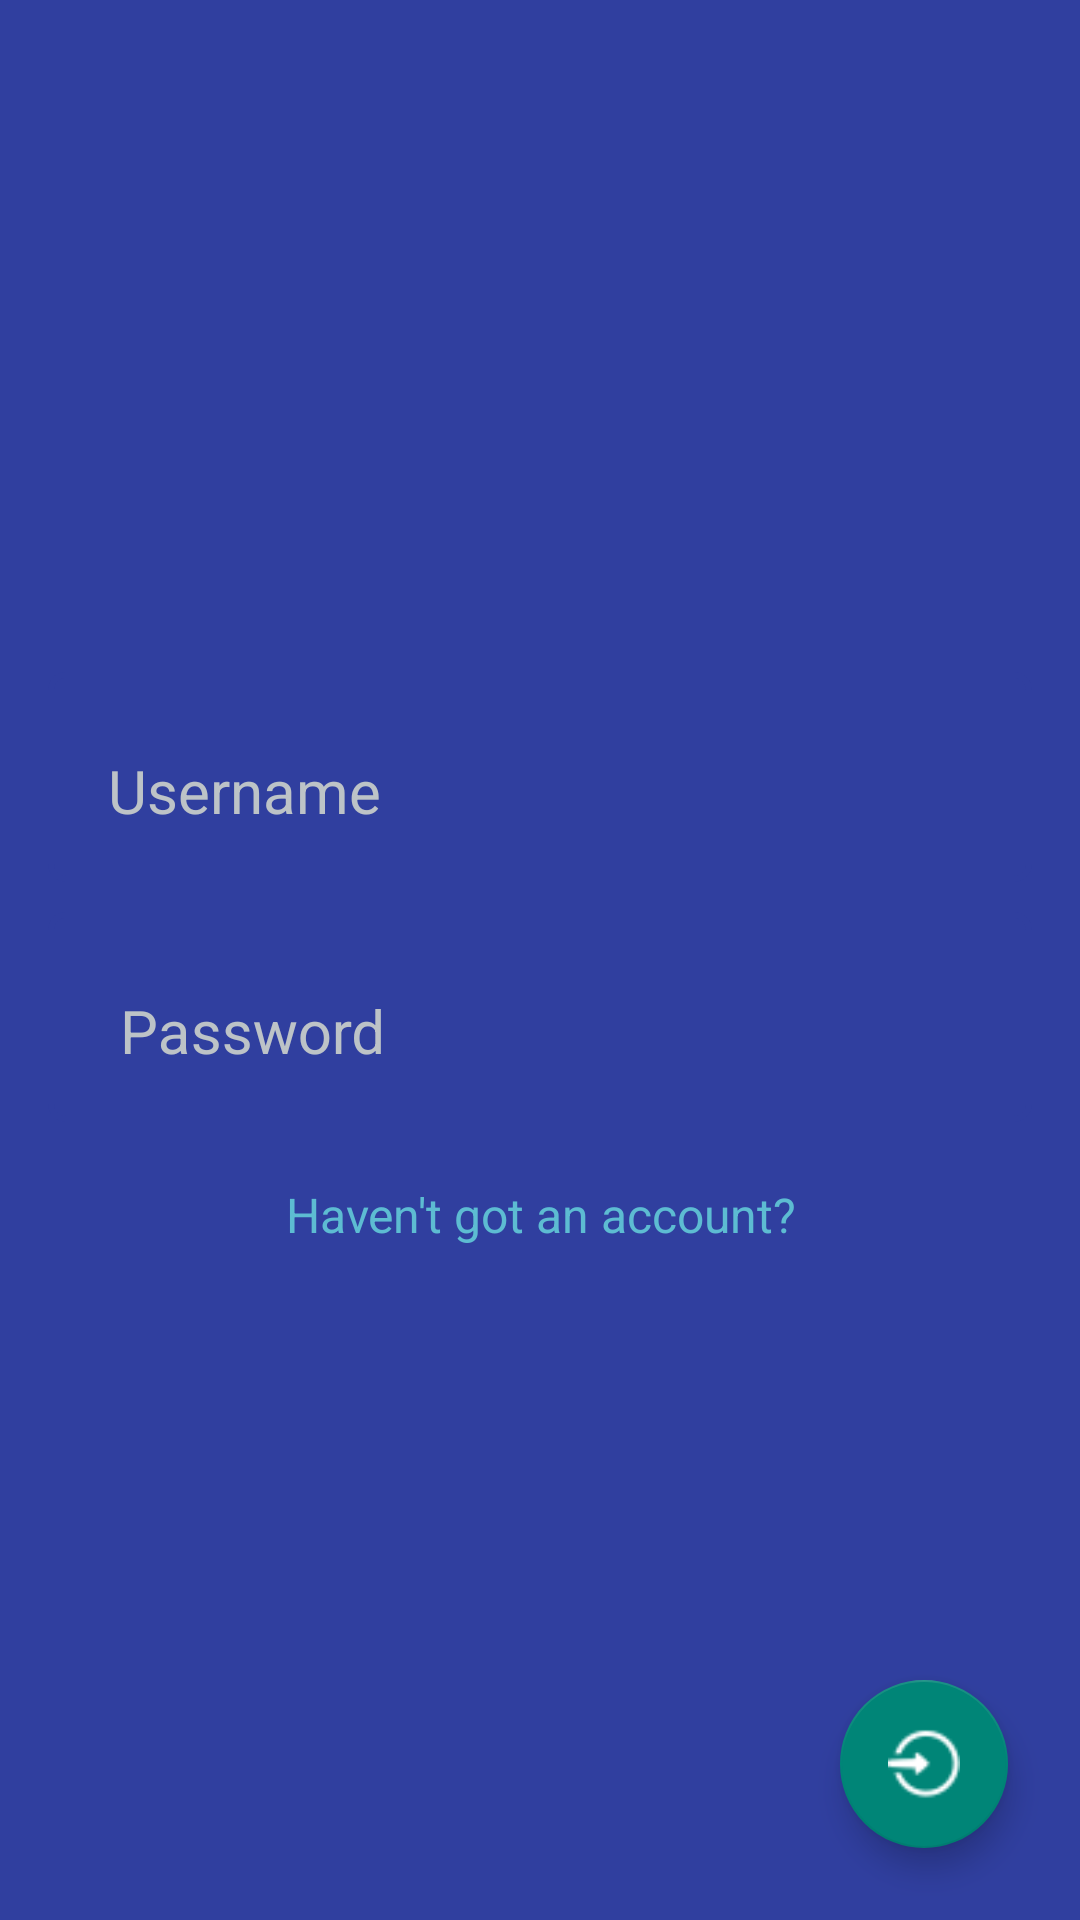

Screen size 1080px×1920px. Icon name, then its center in pixels as point (x, y):
login: point (924, 1764)
